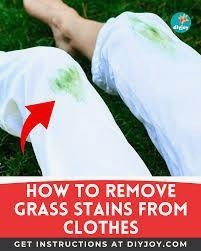earth: (57, 71, 78, 91), (141, 25, 165, 41)
